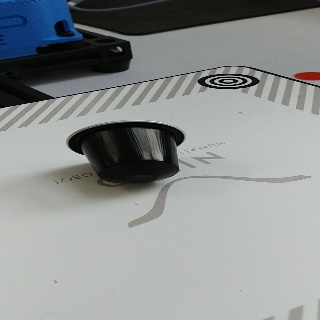capsule_10: (65, 118, 187, 183)
